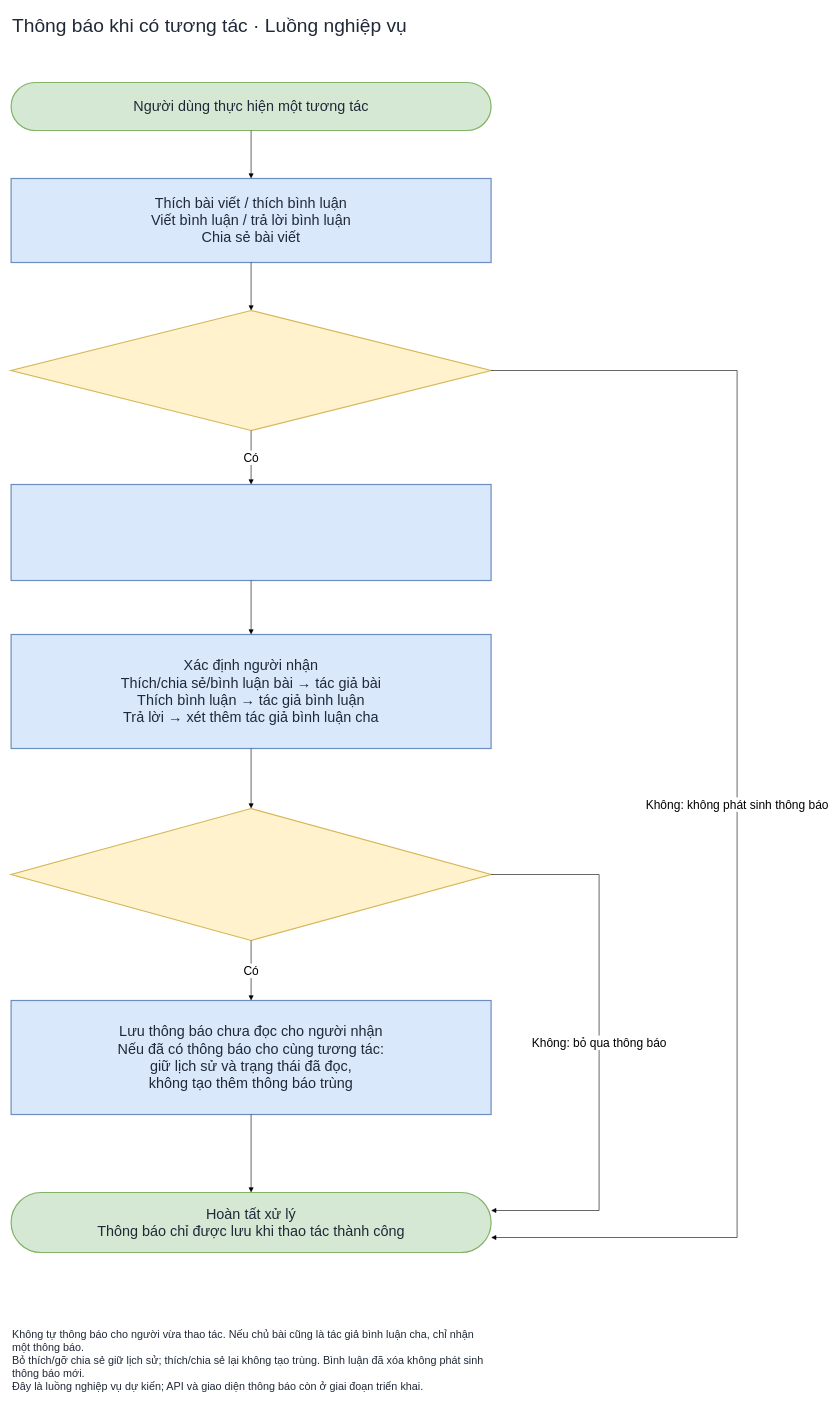
Some shapes in this 839 by 1409 pixel diagram are drawn without their labels. Here are the shapes that lost their labels. From the top down, the box of each, then its label:
(10, 310, 491, 431): Có lượt thích, chia sẻ hoặc bình luận mới được tạo?
(10, 484, 491, 581): Bắt đầu xử lý thông báo theo loại tương tác vừa phát sinh
(10, 808, 491, 941): Có người nhận còn tồn tại và khác người tương tác?
